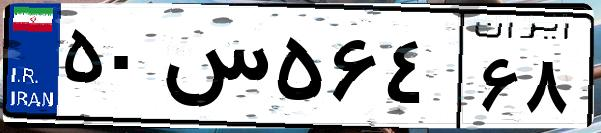0: (110, 28, 158, 98)
4: (385, 28, 445, 110)
5: (270, 28, 330, 110), (57, 26, 110, 100)
6: (330, 28, 385, 110), (475, 38, 525, 113)
8: (525, 38, 570, 115)
س: (158, 20, 270, 120)
